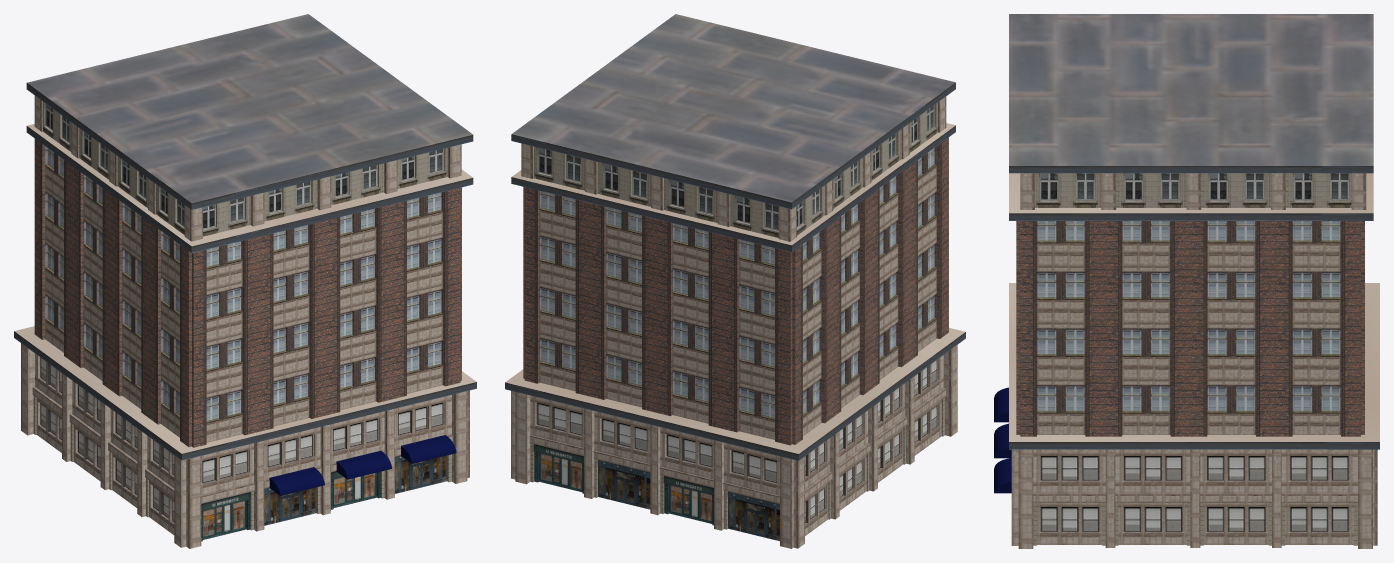
Rendered from game_ready_city_building.glb.
3 renders of one model, left to right at view 1: azimuth 30°, elevation 25°; view 2: azimuth 150°, elevation 25°; view 3: azimuth 270°, elevation 25°, orthographic. The views are drawn at different scales.
Visible parts, largest first — view 1: Plane.007_16, Plane.019_58, Plane.018_80, Plane.006_9, Plane_15, atlas.008_17, Plane.008_18, Plane.009_29, Plane.014_23, atlas.025_57, atlas.001_1, Plane.005_8 (+17 smaller); view 2: Plane.017_79, Plane.019_58, Plane.018_80, Plane.015_49, Plane_15, atlas.024_56, Plane.008_18, Plane.009_29, Plane.014_23, atlas.025_57, Plane.012_44, Plane.013_48 (+17 smaller); view 3: Plane.016_78, Plane.019_58, Plane.010_34, Plane.011_40, atlas.023_55, Plane_15, Plane.008_18, Cube.005_35, Cube.009_39, atlas.012_33, atlas.010_31, Cube.007_37 (+16 smaller).
Boxes of the visible parts, x1,y1,x2,y2 form: Plane.007_16: [192, 187, 460, 447]; Plane.019_58: [26, 14, 473, 209]; Plane.018_80: [34, 138, 191, 447]; Plane.006_9: [201, 395, 451, 495]; Plane_15: [14, 326, 476, 460]; atlas.008_17: [203, 148, 447, 236]; Plane.008_18: [26, 124, 473, 252]; Plane.009_29: [36, 398, 174, 534]; Plane.014_23: [35, 353, 174, 487]; atlas.025_57: [43, 101, 184, 234]; atlas.001_1: [201, 492, 250, 541]; Plane.005_8: [395, 455, 447, 493]; Plane.017_79: [524, 187, 792, 445]; Plane.019_58: [511, 14, 955, 209]; Plane.018_80: [792, 137, 948, 444]; Plane.015_49: [530, 395, 779, 495]; Plane_15: [505, 327, 965, 460]; atlas.024_56: [534, 146, 778, 237]; Plane.008_18: [511, 123, 955, 252]; Plane.009_29: [805, 400, 941, 535]; Plane.014_23: [805, 355, 943, 489]; atlas.025_57: [797, 102, 937, 235]; Plane.012_44: [597, 460, 650, 509]; Plane.013_48: [727, 491, 779, 541]; Plane.016_78: [1020, 221, 1360, 436]; Plane.019_58: [1009, 14, 1373, 173]; Plane.010_34: [1033, 449, 1357, 493]; Plane.011_40: [1037, 503, 1353, 544]; atlas.023_55: [1035, 173, 1351, 207]; Plane_15: [1009, 283, 1379, 449]; Plane.008_18: [1009, 173, 1373, 220]; Cube.005_35: [1018, 449, 1033, 548]; Cube.009_39: [1358, 449, 1372, 548]; atlas.012_33: [1281, 493, 1357, 545]; atlas.010_31: [1115, 493, 1190, 545]; Cube.007_37: [1190, 449, 1200, 547].
Bounding box in the file's own units: 2.52 × 2.83 × 2.58.
Materials: 1 (1 with a texture image).
